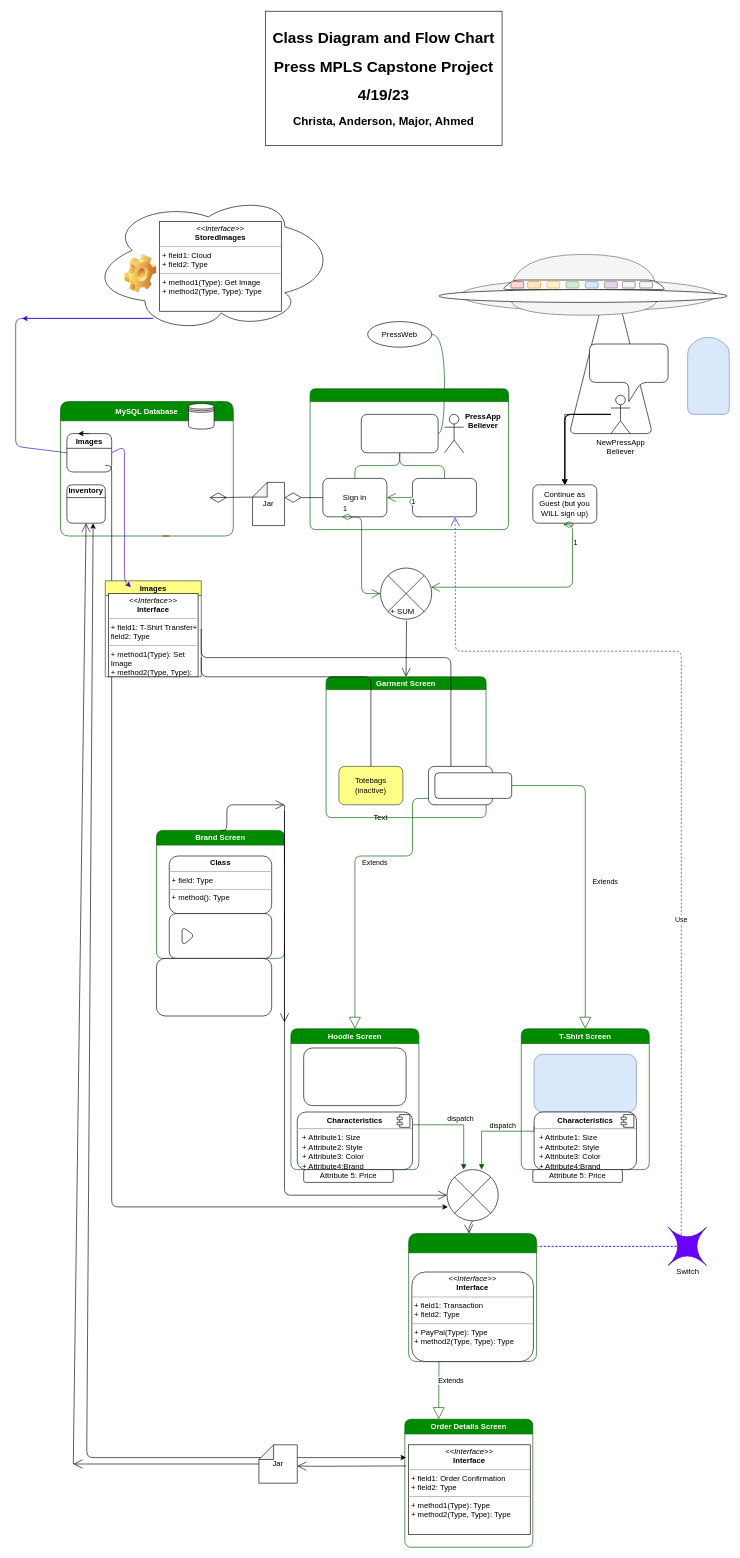
This 740x1558 diagram has some shape labels left out. The box of each missing label's shape, as (x1, y1, x2, y2) in pixels:
Actor: (444, 414, 464, 453)
Clothing: (434, 772, 512, 798)
Division: (428, 766, 492, 805)
Hoodies + field: Type + method(): Type: (303, 1047, 406, 1106)
Login Screen: (361, 414, 438, 453)
Logo: (169, 913, 272, 958)
Order Screen: (408, 1233, 537, 1362)
Portal: (687, 337, 729, 414)
Sign up: (412, 478, 476, 517)
stuff: (188, 403, 214, 429)
T-Shirts/Jerseys + field: Type + method(): Type: (533, 1054, 636, 1112)
Tablename PK uniqueId FK1 foreignKey fieldname: (156, 958, 272, 1016)
This class diagram flow chart is so original it's unbelievable!: (589, 343, 668, 402)
